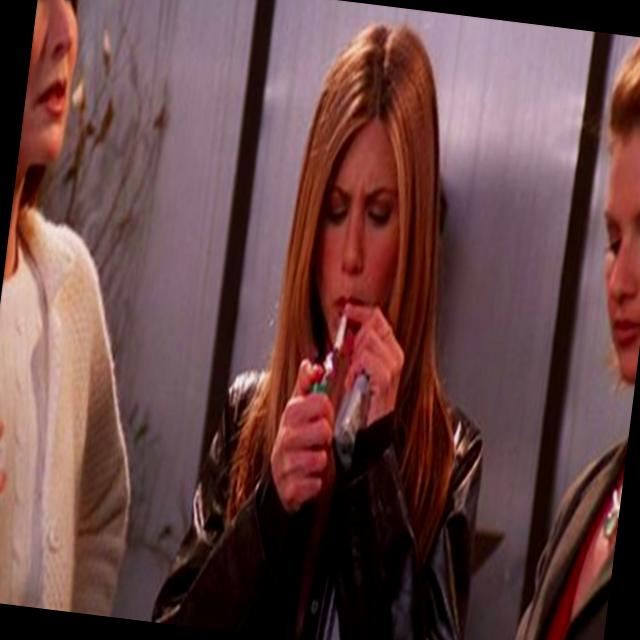smoke: (335, 309, 348, 356)
